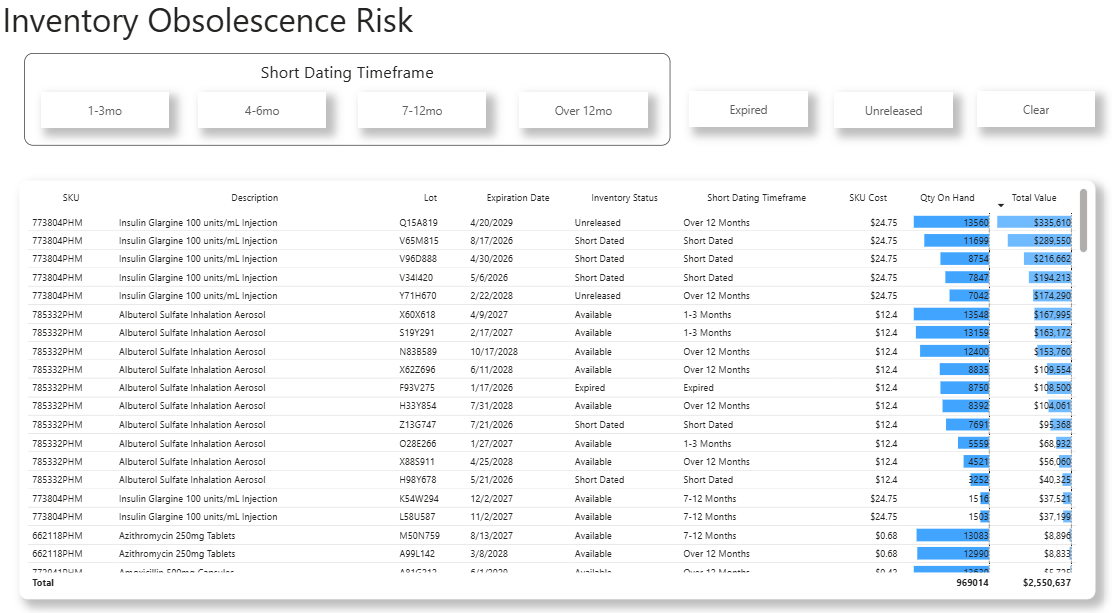

What the dashboard file says about the page in this screenshot:
{"tool":"powerbi","page":{"name":"Inventory Detail","canvas":[1280,720],"ordinal":1},"visuals":[{"type":"tableEx","fields":{"Values":["Inventory.sku","Inventory.description","Inventory.lot","Inventory.expiration_date","Inventory.inv_status","Inventory.short_dating_timeframe","Inventory.sku_cost","Sum(Inventory.qty_on_hand)","Inventory.Total_Cost"]},"box":[24.2,213.8,1227.3,477.5],"z":0},{"type":"textbox","box":[29.5,68.4,737,105.5],"z":1000},{"type":"textbox","box":[0,0,485.8,64.5],"z":2000},{"type":"actionButton","title":"1-3mo","box":[48.2,112.2,146.4,40.9],"z":3000},{"type":"actionButton","title":"1-3mo","box":[228.7,112.9,146.4,40.9],"z":4000},{"type":"actionButton","title":"1-3mo","box":[410.8,112.9,146.4,40.9],"z":5000},{"type":"actionButton","title":"1-3mo","box":[594.6,112.7,146.4,40.9],"z":6000},{"type":"actionButton","title":"1-3mo","box":[796.8,68.4,134,41.3],"z":7000},{"type":"actionButton","title":"1-3mo","box":[796.8,121.2,135.4,41.3],"z":8000},{"type":"actionButton","title":"1-3mo","box":[987.8,121.2,135.4,41.3],"z":9000},{"type":"actionButton","title":"1-3mo","box":[987.2,68.1,136.2,40.9],"z":10000}]}

Visuals, with their boxes in screenshot pixels (x1, y1, x2, y2), scaled from the page's 1280x720 canvas onto the 1112x613 screenshot:
tableEx - Inventory.sku x Inventory.description: <bbox>21, 182, 1087, 589</bbox>
textbox: <bbox>26, 58, 666, 148</bbox>
textbox: <bbox>0, 0, 422, 55</bbox>
"1-3mo" actionButton: <bbox>42, 96, 169, 130</bbox>
"1-3mo" actionButton: <bbox>199, 96, 326, 131</bbox>
"1-3mo" actionButton: <bbox>357, 96, 484, 131</bbox>
"1-3mo" actionButton: <bbox>517, 96, 644, 131</bbox>
"1-3mo" actionButton: <bbox>692, 58, 809, 93</bbox>
"1-3mo" actionButton: <bbox>692, 103, 810, 138</bbox>
"1-3mo" actionButton: <bbox>858, 103, 976, 138</bbox>
"1-3mo" actionButton: <bbox>858, 58, 976, 93</bbox>
